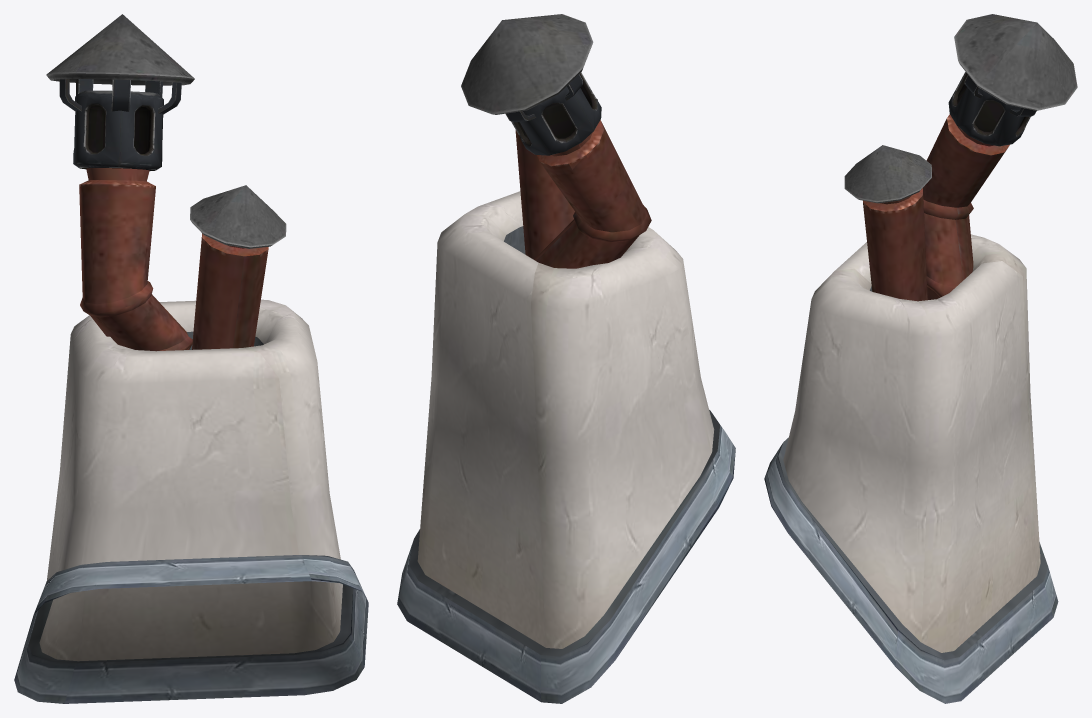
File: Dva odzaka.fbx
3 renders of one model, left to right at view 1: azimuth 30°, elevation 25°; view 2: azimuth 150°, elevation 25°; view 3: azimuth 270°, elevation 25°, orthographic. The views are drawn at different scales.
Visible parts, largest first — view 1: Dva_odzaka; view 2: Dva_odzaka; view 3: Dva_odzaka.
Boxes of the visible parts, x1=… form: Dva_odzaka: x1=14, y1=14, x2=368, y2=703; Dva_odzaka: x1=397, y1=14, x2=735, y2=703; Dva_odzaka: x1=764, y1=14, x2=1077, y2=703.
Size of the model in its own units: 0.7151 by 1.43 by 0.6588.
Materials: 2 (2 with a texture image).
